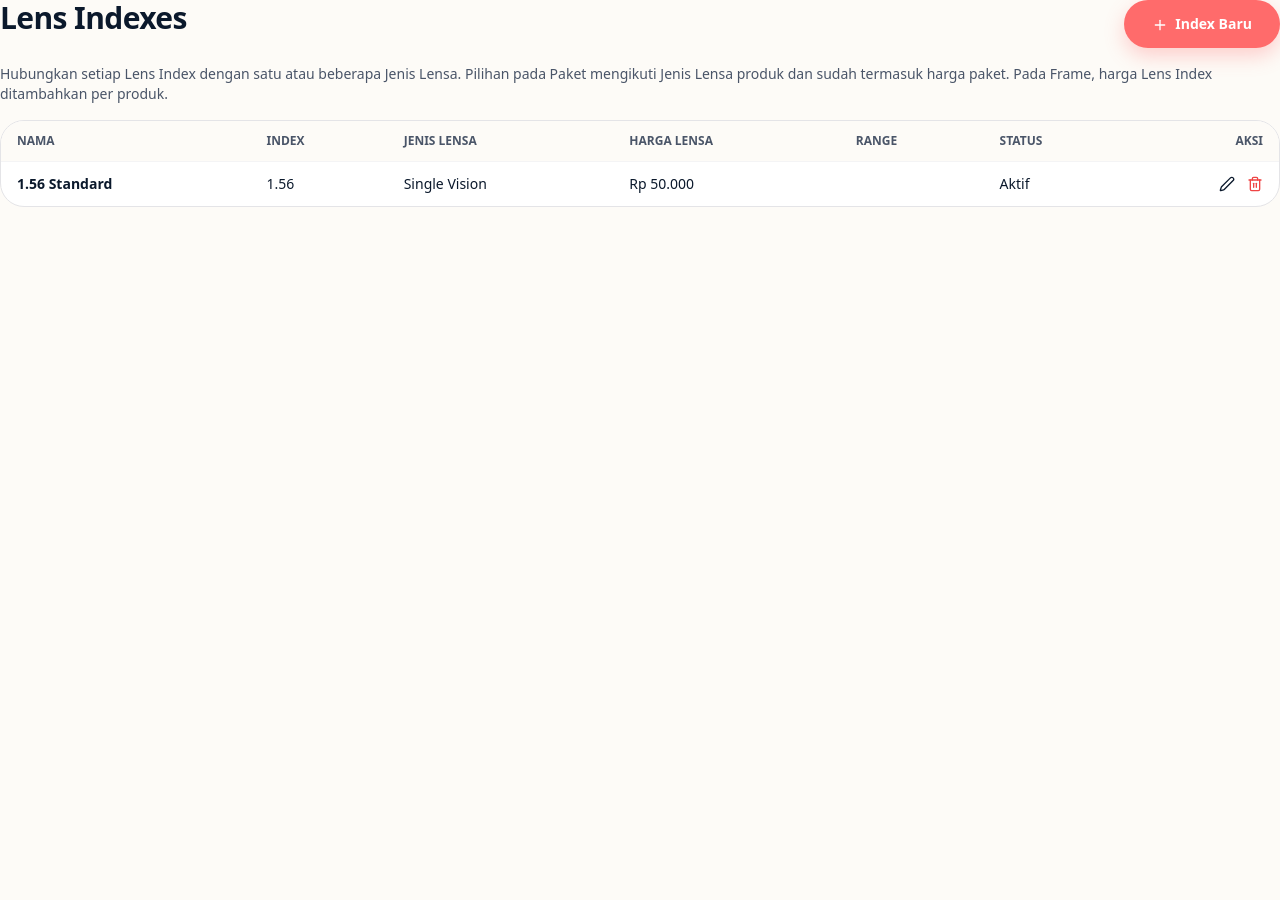
it: admin edits an existing Lens Index and saves multiple independent lens type assignments
Click the button named "Edit Lens Index 1.56 Standard" at (1227, 184), box [1219,176,1235,192]
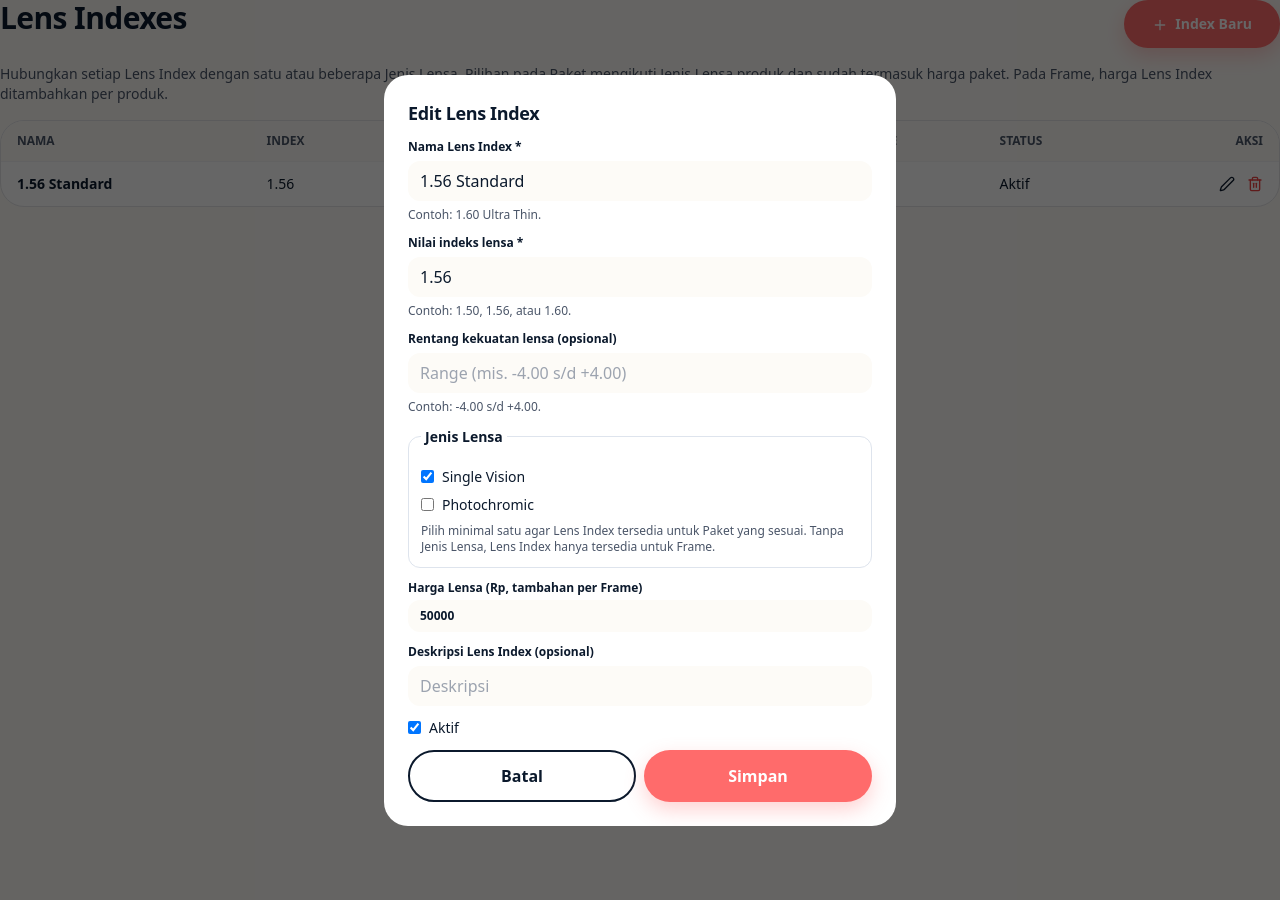
Expected: the checkbox labelled "Single Vision" is checked, [421,470,434,483]
Click the checkbox labelled "Photochromic" at (428, 504), box [421,498,434,511]
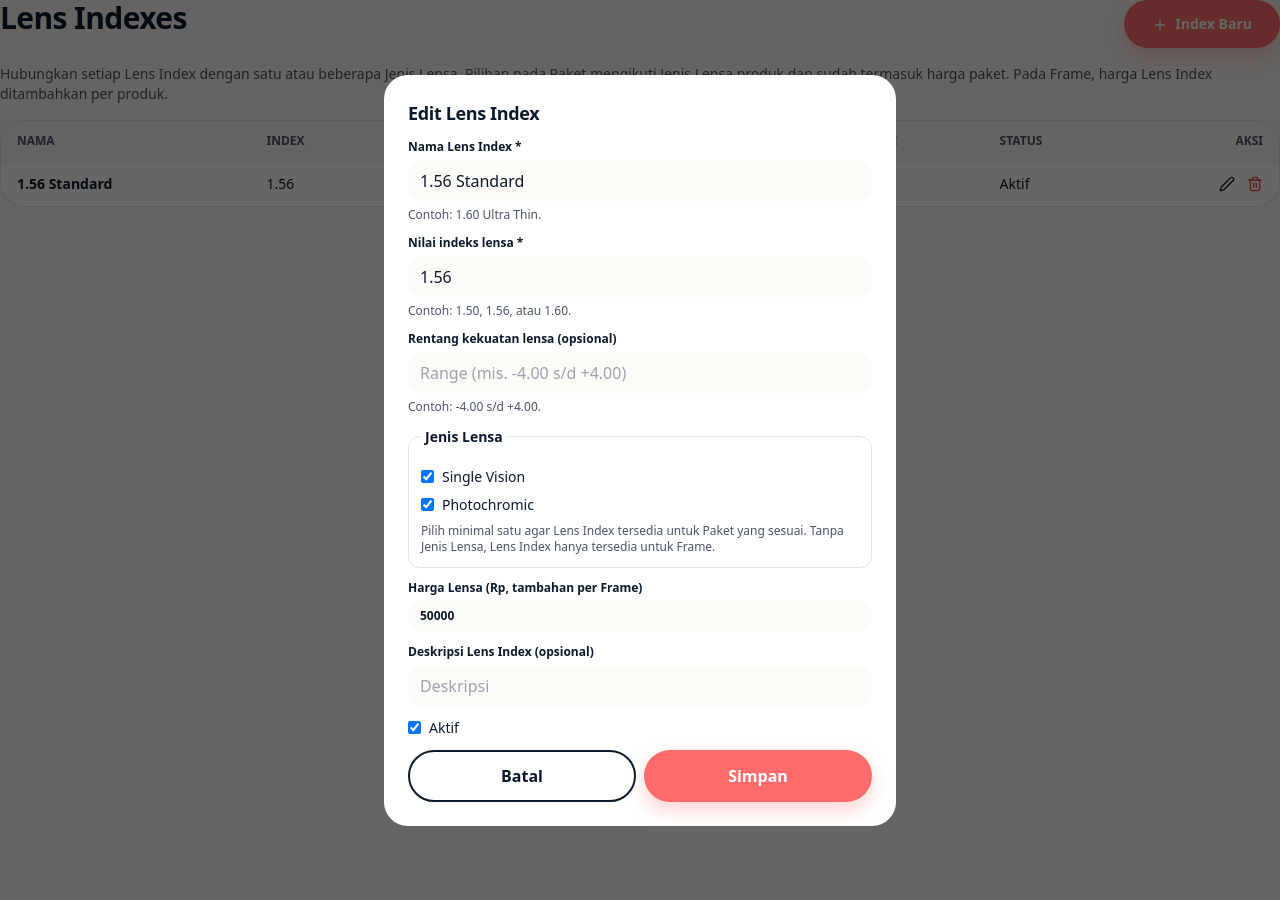
Submit the form, box [384,74,896,826]
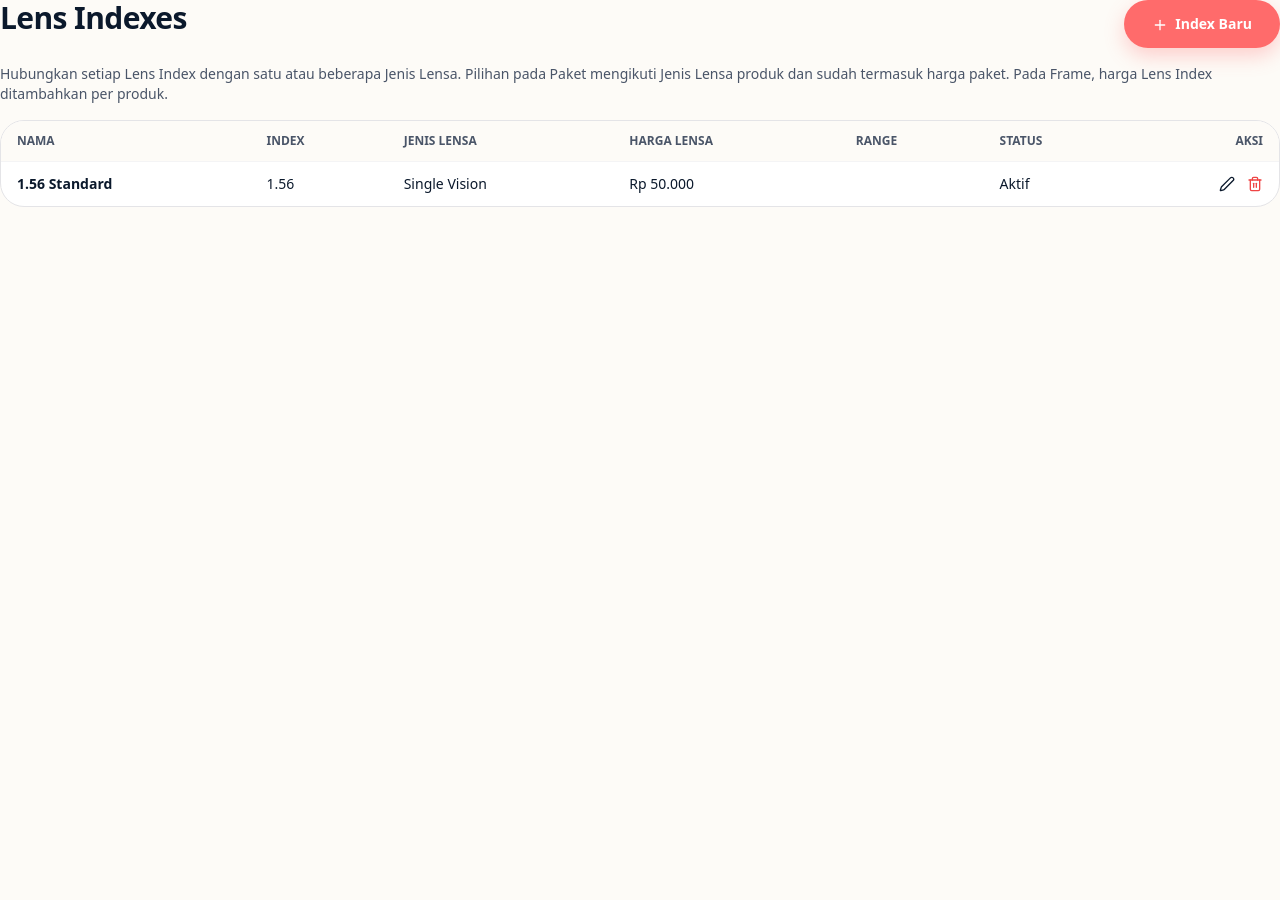
Expected: the form is gone
